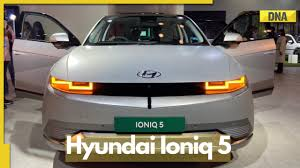Honda Ioniq: (10, 7, 281, 168)
